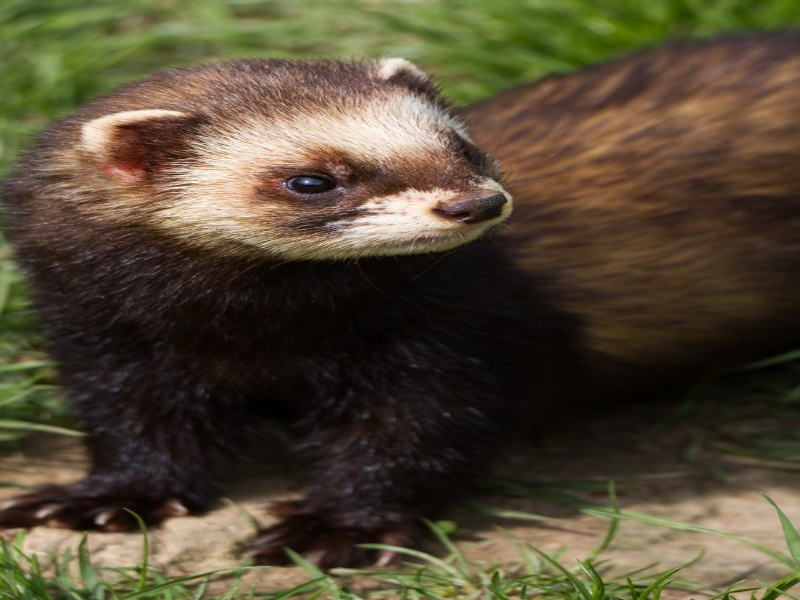minkish: (9, 50, 800, 575)
